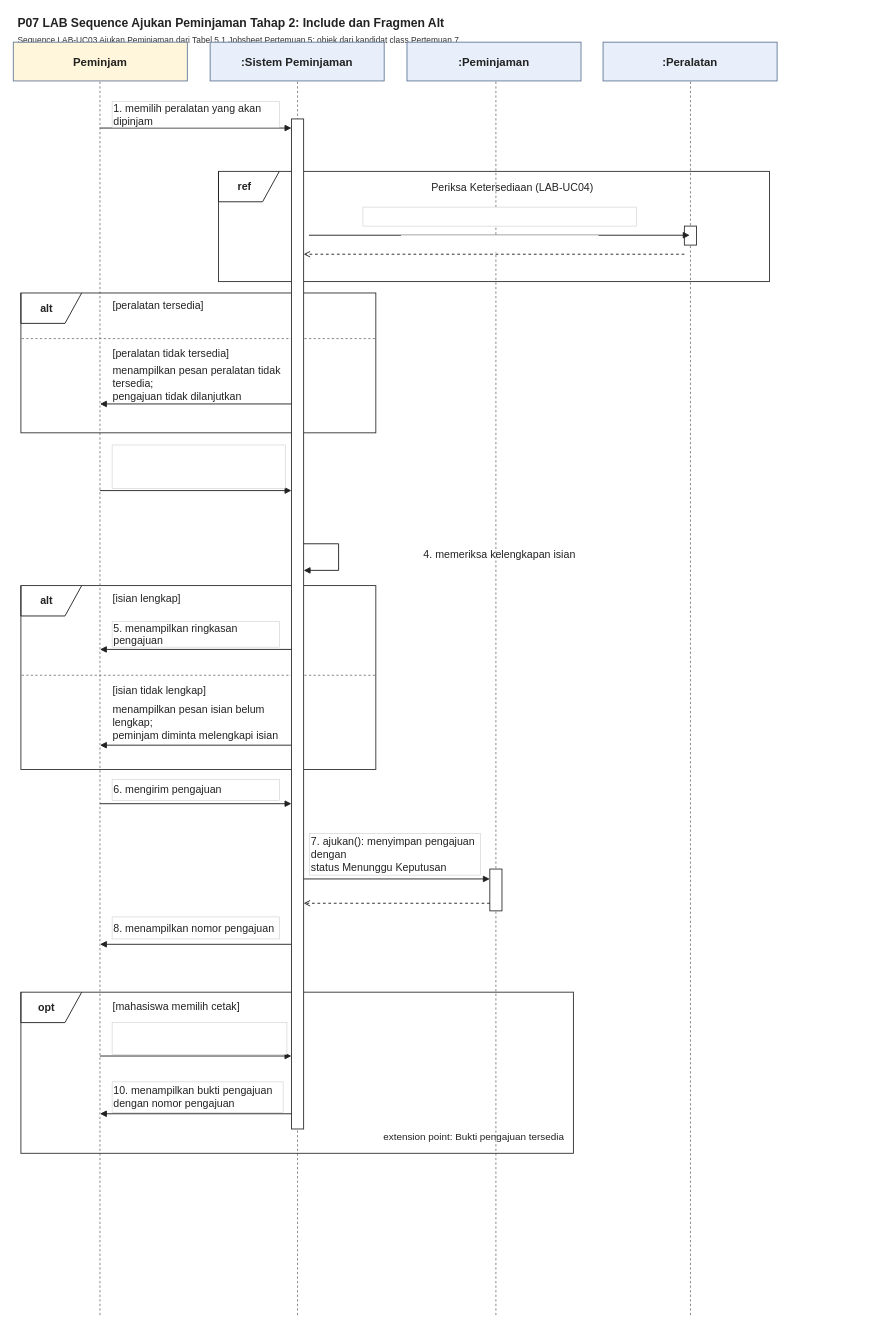
The diagram is 881 pixels wide and 1329 high, and some of its shapes have lost their labels. The shapes that lost their labels are listed below. From the top down, each one's centre as x and y in pixels, then its label:
At (x=499, y=216): "2. periksaKetersediaan()".
At (x=499, y=243): "hasil periksa ketersediaan".
At (x=198, y=466): "3. mengisi tanggal pinjam, tanggal rencana kembali, dan keperluan peminjaman".
At (x=419, y=889): "nomor pengajuan".
At (x=199, y=1038): "9. memilih cetak bukti pengajuan (khusus Mahasiswa, extend LAB- UC05)".
